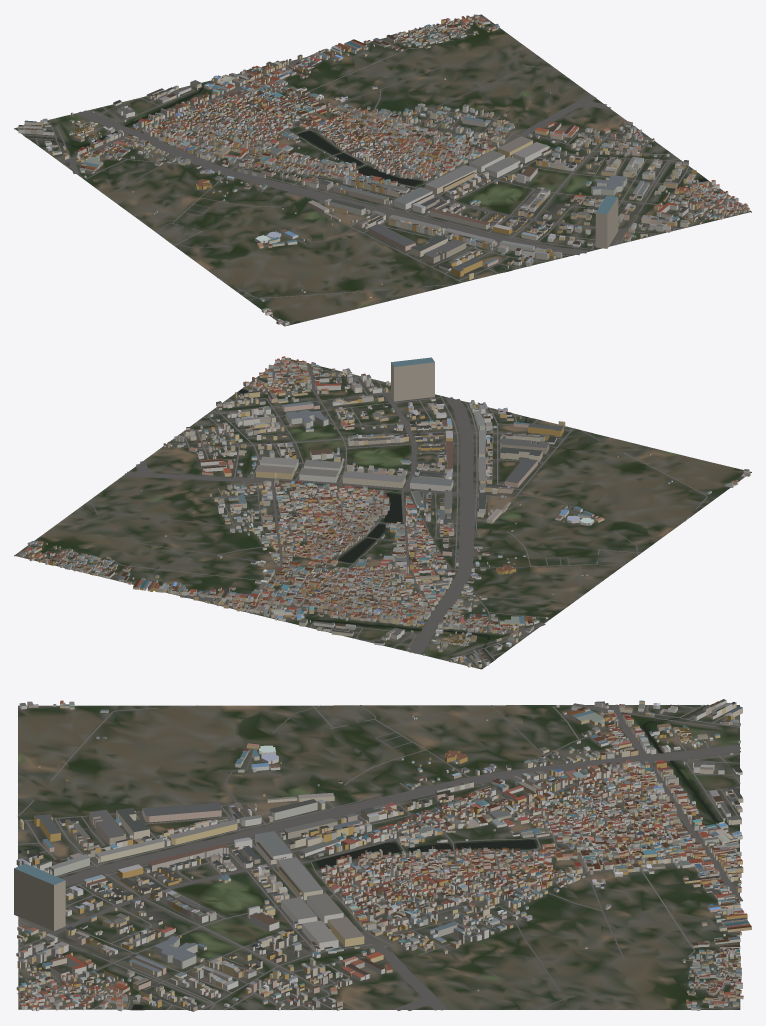
3 renders of one model, top to bottom at view 1: azimuth 30°, elevation 25°; view 2: azimuth 150°, elevation 25°; view 3: azimuth 270°, elevation 25°, orthographic. The views are drawn at different scales.
Parts seen in each view (by area): view 1: ground, buildings, roads, water; view 2: ground, buildings, roads, water; view 3: ground, buildings, roads, water.
Part boxes in pixels (<box>): ground: <box>14,14,751,326</box>; buildings: <box>18,14,749,325</box>; roads: <box>23,16,745,324</box>; water: <box>25,87,708,271</box>; ground: <box>14,358,751,669</box>; buildings: <box>19,356,750,667</box>; roads: <box>17,359,707,667</box>; water: <box>238,389,529,661</box>; ground: <box>18,705,740,1010</box>; buildings: <box>14,699,751,1011</box>; roads: <box>17,703,742,1010</box>; water: <box>18,704,721,1009</box>.
Bounding box in the file's own units: 1416 × 104 × 1433.
